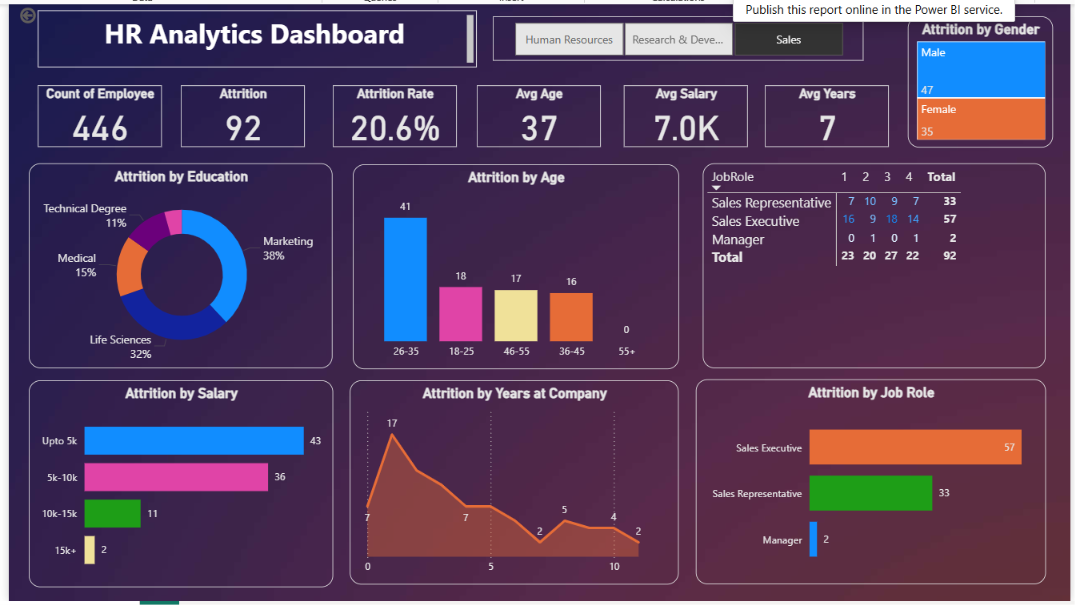

What the dashboard file says about the page in this screenshot:
{"tool":"powerbi","page":{"name":"HR_Analasis Dashboard","canvas":[1280,720],"ordinal":0},"visuals":[{"type":"card","title":"Count of Employee","fields":{"Values":["CountNonNull(HR_Analytics.EmpID)"]},"box":[35,97.7,149.6,74.8],"z":0},{"type":"card","title":"Attrition","fields":{"Values":["Sum(HR_Analytics.AttritionCount)"]},"box":[207.5,97.7,149.6,74.8],"z":1000},{"type":"card","title":"Attrition Rate","fields":{"Values":["HR_Analytics.AttritionRate"]},"box":[390.9,97.7,149.6,74.8],"z":2000},{"type":"card","title":"Avg Age","fields":{"Values":["Avg(HR_Analytics.Age)"]},"box":[564.6,97.7,149.6,74.8],"z":3000},{"type":"actionButton","box":[10.1,0,100.8,26.9],"z":4000},{"type":"card","title":"Avg Salary","fields":{"Values":["Avg(HR_Analytics.MonthlyIncome)"]},"box":[742,97.7,149.6,74.8],"z":5000},{"type":"card","title":"Avg Years","fields":{"Values":["Avg(HR_Analytics.YearsAtCompany)"]},"box":[912.1,97.7,149.6,74.8],"z":6000},{"type":"donutChart","title":"Attrition by Education","fields":{"Y":["Sum(HR_Analytics.AttritionCount)"],"Category":["HR_Analytics.EducationField","HR_Analytics.YearsAtCompany"]},"box":[24.1,191.8,366.8,247.3],"z":7000},{"type":"columnChart","title":"Attrition by Age","fields":{"Category":["HR_Analytics.AgeGroup"],"Y":["Sum(HR_Analytics.AttritionCount)"]},"box":[415,193,393.3,247.3],"z":8000},{"type":"pivotTable","fields":{"Rows":["HR_Analytics.JobRole"],"Columns":["HR_Analytics.JobSatisfaction"],"Values":["Sum(HR_Analytics.AttritionCount)"]},"box":[837.3,191.8,413.8,247.3],"z":9000},{"type":"barChart","title":"Attrition by Salary","fields":{"Category":["HR_Analytics.SalarySlab"],"Y":["Sum(HR_Analytics.AttritionCount)"]},"box":[24.1,453.5,367.1,249.4],"z":10000},{"type":"barChart","title":"Attrition by Job Role","fields":{"Category":["HR_Analytics.JobRole"],"Y":["Sum(HR_Analytics.AttritionCount)"]},"box":[828.8,452.4,422.3,247.3],"z":11000},{"type":"areaChart","title":"Attrition by Years at Company","fields":{"Category":["HR_Analytics.YearsAtCompany"],"Y":["Sum(HR_Analytics.AttritionCount)"]},"box":[411,453.5,396.9,246.6],"z":12000},{"type":"treemap","title":"Attrition by Gender","fields":{"Group":["HR_Analytics.Gender"],"Values":["Sum(HR_Analytics.AttritionCount)"]},"box":[1084.6,14.5,174.9,158],"z":13000},{"type":"slicer","fields":{"Values":["HR_Analytics.Department"]},"box":[584.2,14.1,447,53.8],"z":14000},{"type":"textbox","box":[35,7.2,529.6,68.8],"z":15000}]}

Visuals, with their boxes in screenshot pixels (x1, y1, x2, y2):
"Count of Employee" card: bbox=[19, 78, 147, 143]
"Attrition" card: bbox=[167, 78, 295, 143]
"Attrition Rate" card: bbox=[324, 78, 453, 143]
"Avg Age" card: bbox=[474, 78, 602, 143]
actionButton: bbox=[0, 0, 84, 17]
"Avg Salary" card: bbox=[626, 78, 754, 143]
"Avg Years" card: bbox=[772, 78, 900, 143]
"Attrition by Education" donutChart: bbox=[9, 159, 324, 371]
"Attrition by Age" columnChart: bbox=[345, 160, 683, 372]
pivotTable - HR_Analytics.JobRole x HR_Analytics.JobSatisfaction: bbox=[708, 159, 1063, 371]
"Attrition by Salary" barChart: bbox=[9, 384, 325, 598]
"Attrition by Job Role" barChart: bbox=[700, 383, 1063, 595]
"Attrition by Years at Company" areaChart: bbox=[342, 384, 683, 596]
"Attrition by Gender" treemap: bbox=[920, 7, 1070, 143]
slicer - HR_Analytics.Department: bbox=[490, 7, 874, 53]
textbox: bbox=[19, 1, 474, 60]
